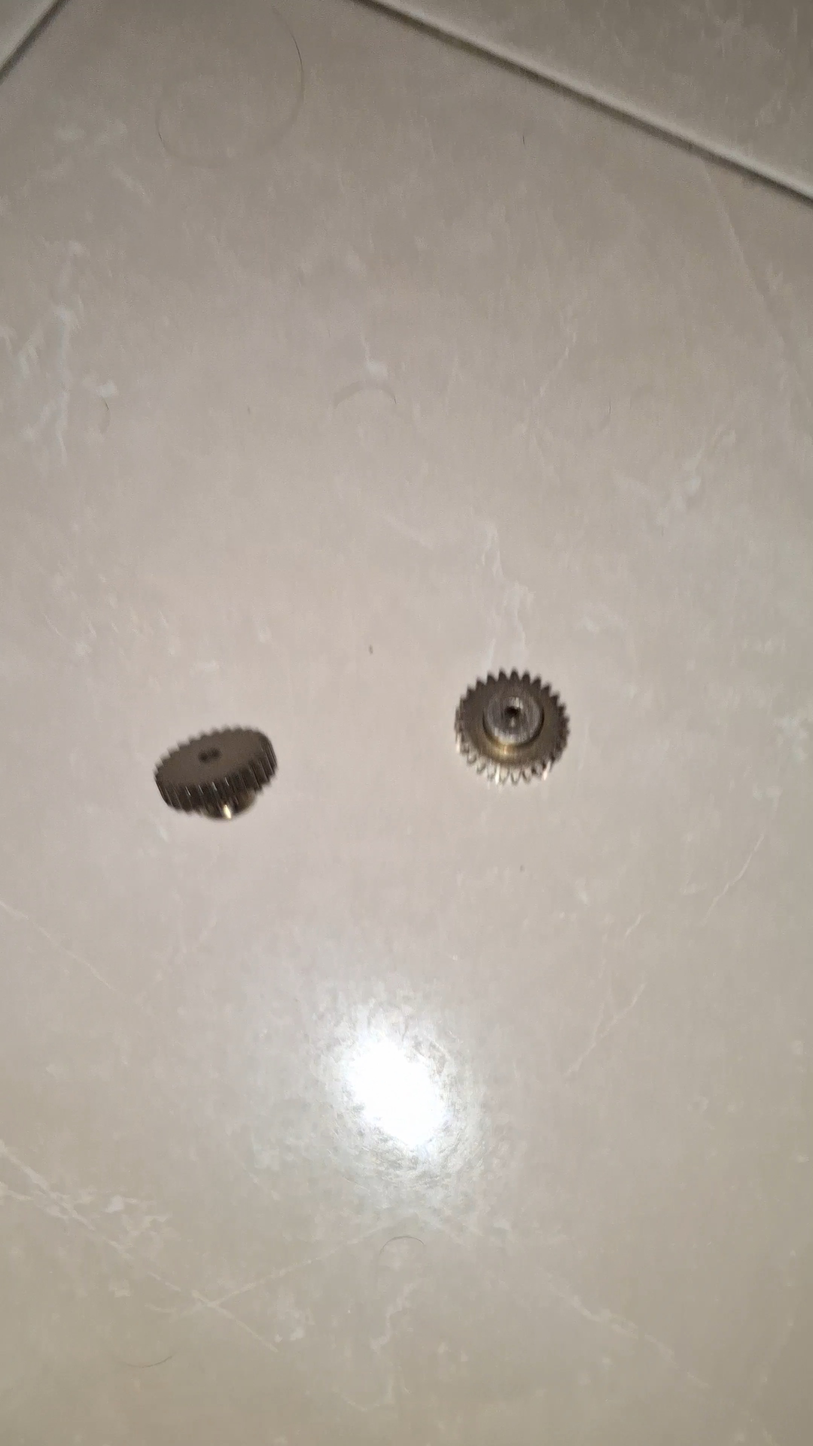spur gear: (455, 671, 568, 783), (155, 728, 276, 819)
